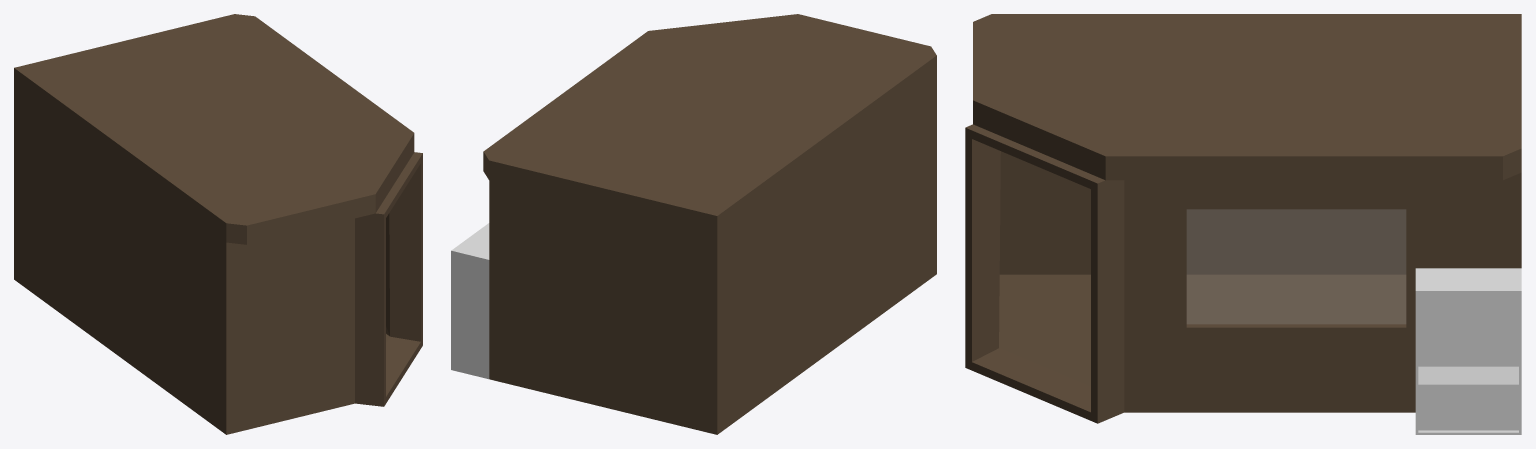
The model's file is photostore.glb.
The picture shows the model from 3 angles, left to right: view 1: azimuth 30°, elevation 25°; view 2: azimuth 150°, elevation 25°; view 3: azimuth 270°, elevation 25°; orthographic projection. The views are drawn at different scales.
Visible parts, largest first — view 1: Cube; view 2: Cube, Cube.003; view 3: Cube, Plane.001, Cube.003, Plane.003.
Part boxes in pixels (<box>): Cube: <box>14,14,422,434</box>; Cube: <box>483,14,936,434</box>; Cube.003: <box>451,223,489,379</box>; Cube: <box>965,14,1521,423</box>; Plane.001: <box>1187,209,1405,323</box>; Cube.003: <box>1415,268,1521,434</box>; Plane.003: <box>1418,293,1518,430</box>.
Size of the model in its own units: 14 by 11 by 21.
